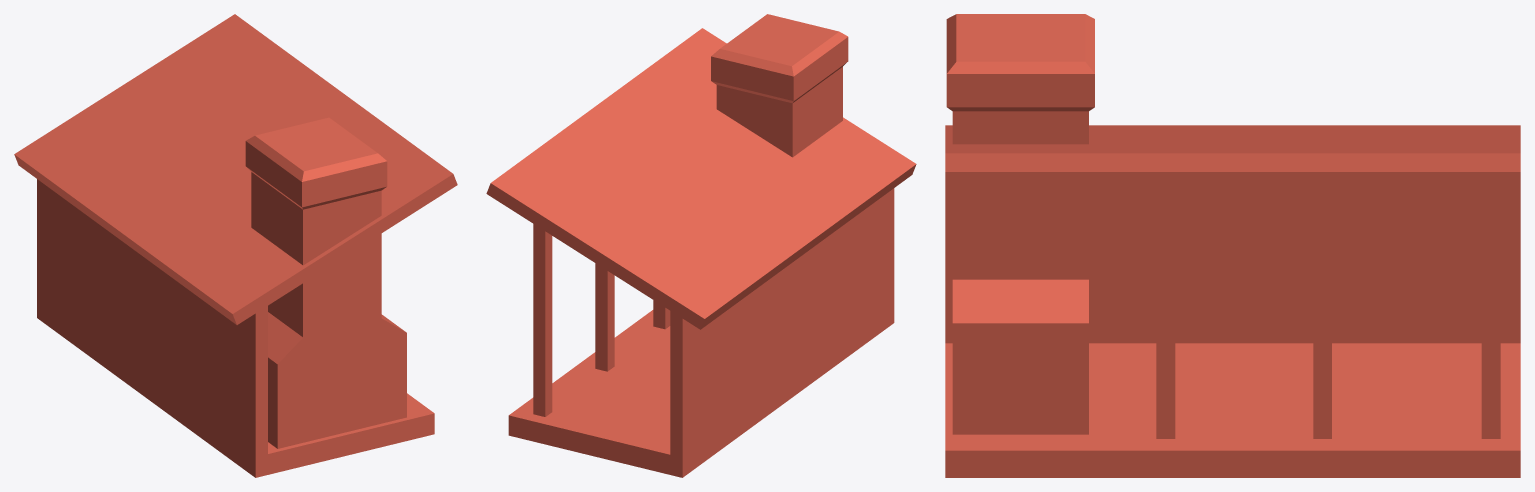
File: forge01.glb
3 renders of one model, left to right at view 1: azimuth 30°, elevation 25°; view 2: azimuth 150°, elevation 25°; view 3: azimuth 270°, elevation 25°, orthographic. The views are drawn at different scales.
Visible parts, largest first — view 1: Smithy01; view 2: Smithy01; view 3: Smithy01.
Boxes of the visible parts, <box> form: Smithy01: <box>14,14,457,477</box>; Smithy01: <box>486,14,916,477</box>; Smithy01: <box>945,14,1520,477</box>.
Size of the model in its own units: 0.9044 by 1.12 by 1.52.
